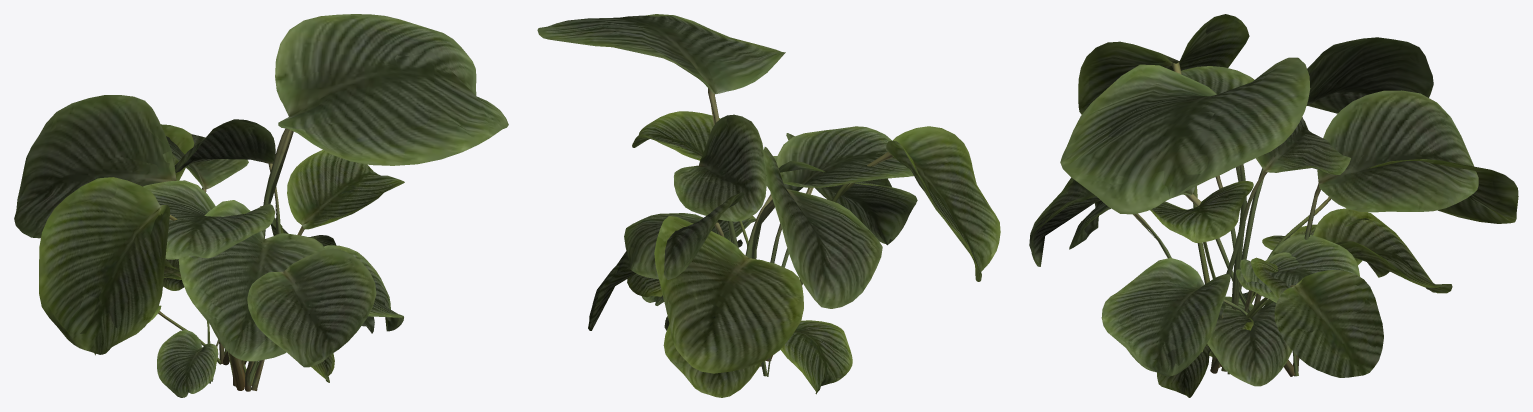
File: calathea_orbifolia_01.glb
3 renders of one model, left to right at view 1: azimuth 30°, elevation 25°; view 2: azimuth 150°, elevation 25°; view 3: azimuth 270°, elevation 25°, orthographic. The views are drawn at different scales.
Visible parts, largest first — view 1: calathea_orbifolia_01_a, calathea_orbifolia_01_a_lo, calathea_orbifolia_01_b, calathea_orbifolia_01_c, calathea_orbifolia_01_b_lo, calathea_orbifolia_01_c_lo, calathea_orbifolia_01_d, calathea_orbifolia_01_d_lo, calathea_orbifolia_01_e_lo; view 2: calathea_orbifolia_01_a, calathea_orbifolia_01_a_lo, calathea_orbifolia_01_b_lo, calathea_orbifolia_01_c, calathea_orbifolia_01_b, calathea_orbifolia_01_c_lo; view 3: calathea_orbifolia_01_a, calathea_orbifolia_01_a_lo, calathea_orbifolia_01_b, calathea_orbifolia_01_b_lo, calathea_orbifolia_01_c, calathea_orbifolia_01_c_lo, calathea_orbifolia_01_d, calathea_orbifolia_01_d_lo, calathea_orbifolia_01_e_lo, calathea_orbifolia_01_e.
Boxes of the visible parts, x1=… form: calathea_orbifolia_01_a: x1=14, y1=14, x2=508, y2=391; calathea_orbifolia_01_a_lo: x1=16, y1=15, x2=508, y2=390; calathea_orbifolia_01_b: x1=94, y1=134, x2=403, y2=365; calathea_orbifolia_01_c: x1=143, y1=150, x2=404, y2=386; calathea_orbifolia_01_b_lo: x1=95, y1=136, x2=403, y2=363; calathea_orbifolia_01_c_lo: x1=143, y1=150, x2=403, y2=382; calathea_orbifolia_01_d: x1=157, y1=272, x2=219, y2=397; calathea_orbifolia_01_d_lo: x1=158, y1=272, x2=219, y2=396; calathea_orbifolia_01_e_lo: x1=163, y1=259, x2=334, y2=382; calathea_orbifolia_01_a: x1=537, y1=14, x2=1000, y2=373; calathea_orbifolia_01_a_lo: x1=537, y1=14, x2=999, y2=367; calathea_orbifolia_01_b_lo: x1=624, y1=156, x2=917, y2=392; calathea_orbifolia_01_c: x1=632, y1=111, x2=913, y2=397; calathea_orbifolia_01_b: x1=624, y1=161, x2=916, y2=394; calathea_orbifolia_01_c_lo: x1=633, y1=112, x2=913, y2=396; calathea_orbifolia_01_a: x1=1029, y1=14, x2=1518, y2=377; calathea_orbifolia_01_a_lo: x1=1031, y1=14, x2=1516, y2=377; calathea_orbifolia_01_b: x1=1069, y1=90, x2=1478, y2=376; calathea_orbifolia_01_b_lo: x1=1070, y1=91, x2=1478, y2=375; calathea_orbifolia_01_c: x1=1151, y1=66, x2=1452, y2=358; calathea_orbifolia_01_c_lo: x1=1150, y1=67, x2=1451, y2=357; calathea_orbifolia_01_d: x1=1207, y1=292, x2=1292, y2=386; calathea_orbifolia_01_d_lo: x1=1207, y1=295, x2=1291, y2=383; calathea_orbifolia_01_e_lo: x1=1158, y1=225, x2=1389, y2=397; calathea_orbifolia_01_e: x1=1157, y1=224, x2=1389, y2=397.
Size of the model in its own units: 0.6006 by 0.4243 by 0.5257.
1 material, 1 textured.
